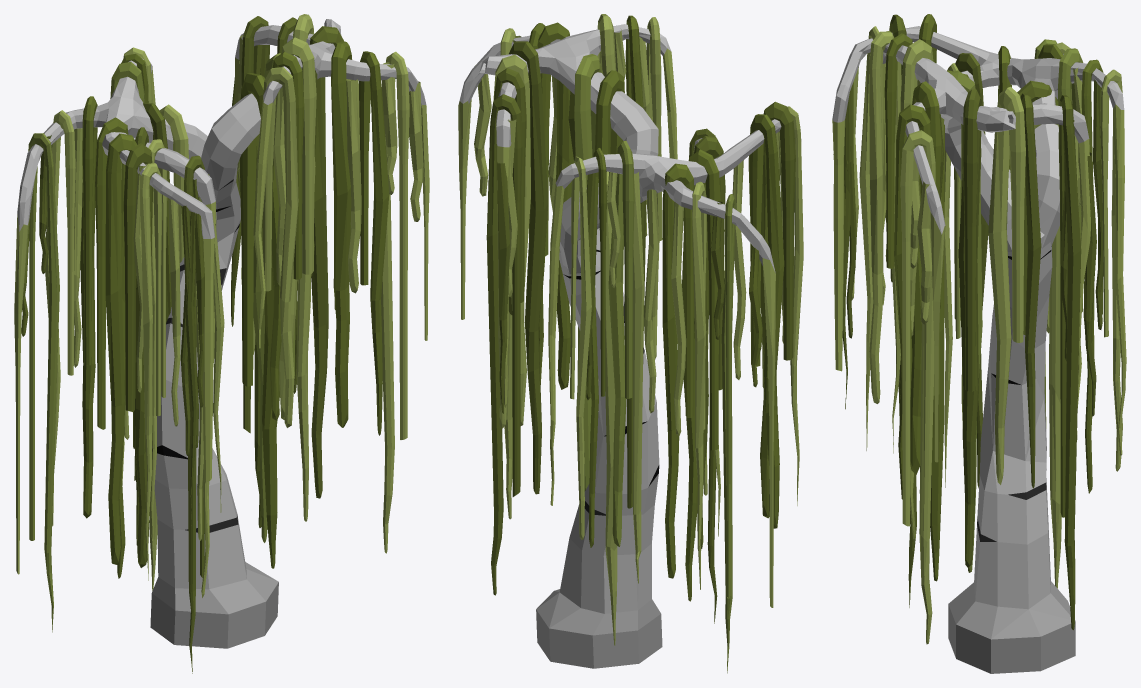
File: EA03_Nature_Tree_03c.fbx
3 views of the same model, side by side, from view 1: azimuth 30°, elevation 25°; view 2: azimuth 150°, elevation 25°; view 3: azimuth 270°, elevation 25° (orthographic). The views are drawn at different scales.
Visible parts, largest first — view 1: EA03_Nature_Tree_03c_LOD0; view 2: EA03_Nature_Tree_03c_LOD0; view 3: EA03_Nature_Tree_03c_LOD0.
Boxes of the visible parts, x1,y1,x2,y2 form: EA03_Nature_Tree_03c_LOD0: (14,14,429,673); EA03_Nature_Tree_03c_LOD0: (458,14,803,673); EA03_Nature_Tree_03c_LOD0: (832,14,1126,673).
Size of what is drawn, in the model's own units: 7.49 by 11.8 by 5.03.
